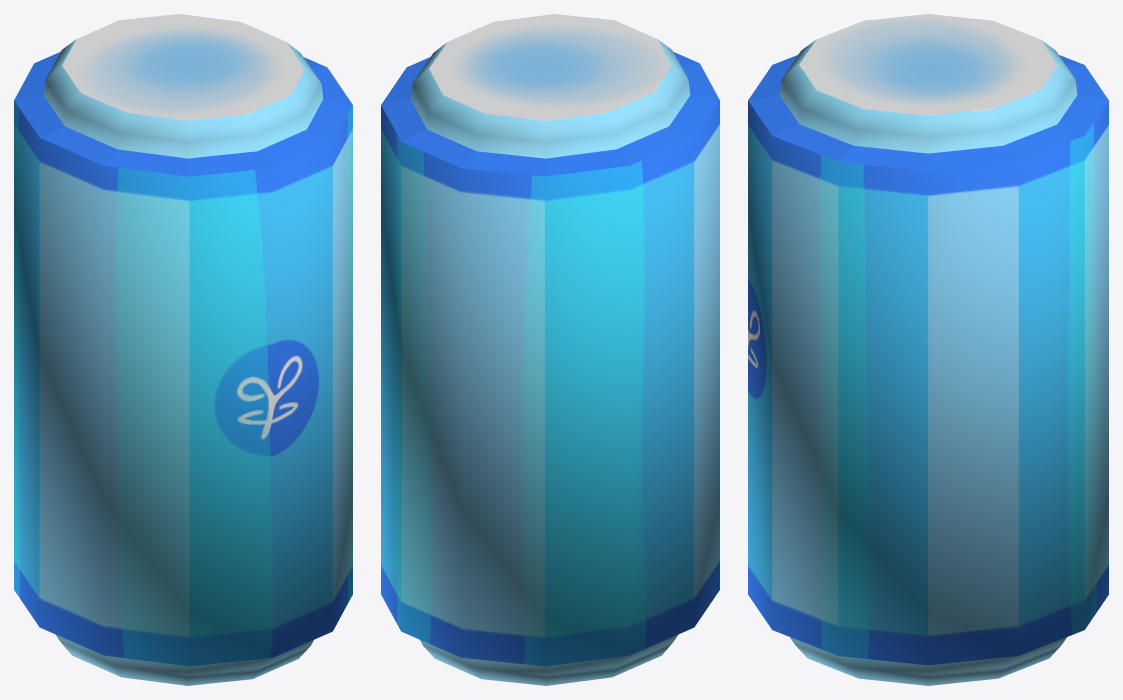
The model's file is DrinkCan_mod.fbx.
The picture shows the model from 3 angles, left to right: view 1: azimuth 30°, elevation 25°; view 2: azimuth 150°, elevation 25°; view 3: azimuth 270°, elevation 25°; orthographic projection.
Visible parts, largest first — view 1: Battery_cylinder; view 2: Battery_cylinder; view 3: Battery_cylinder.
Part boxes in pixels (x1,y1,x2,y2): Battery_cylinder: (14, 14, 352, 685); Battery_cylinder: (381, 14, 719, 685); Battery_cylinder: (748, 14, 1108, 685).
Bounding box in the file's own units: 29.97 × 55.85 × 32.25.
